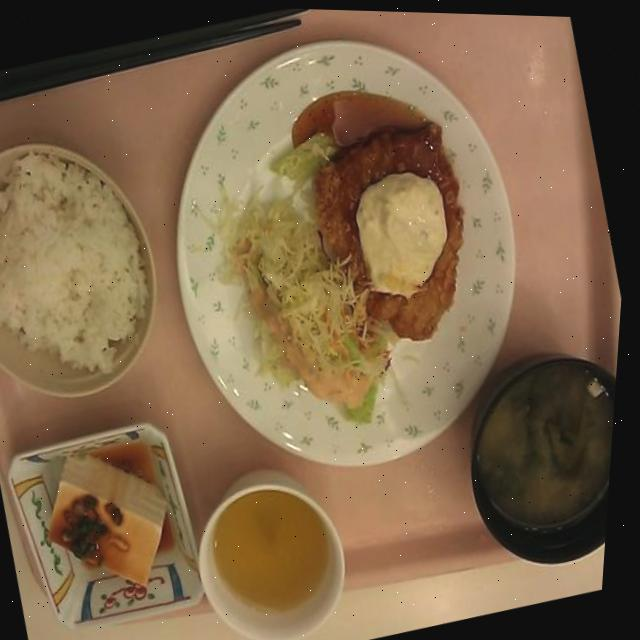米饭主食: (0, 114, 201, 427)
